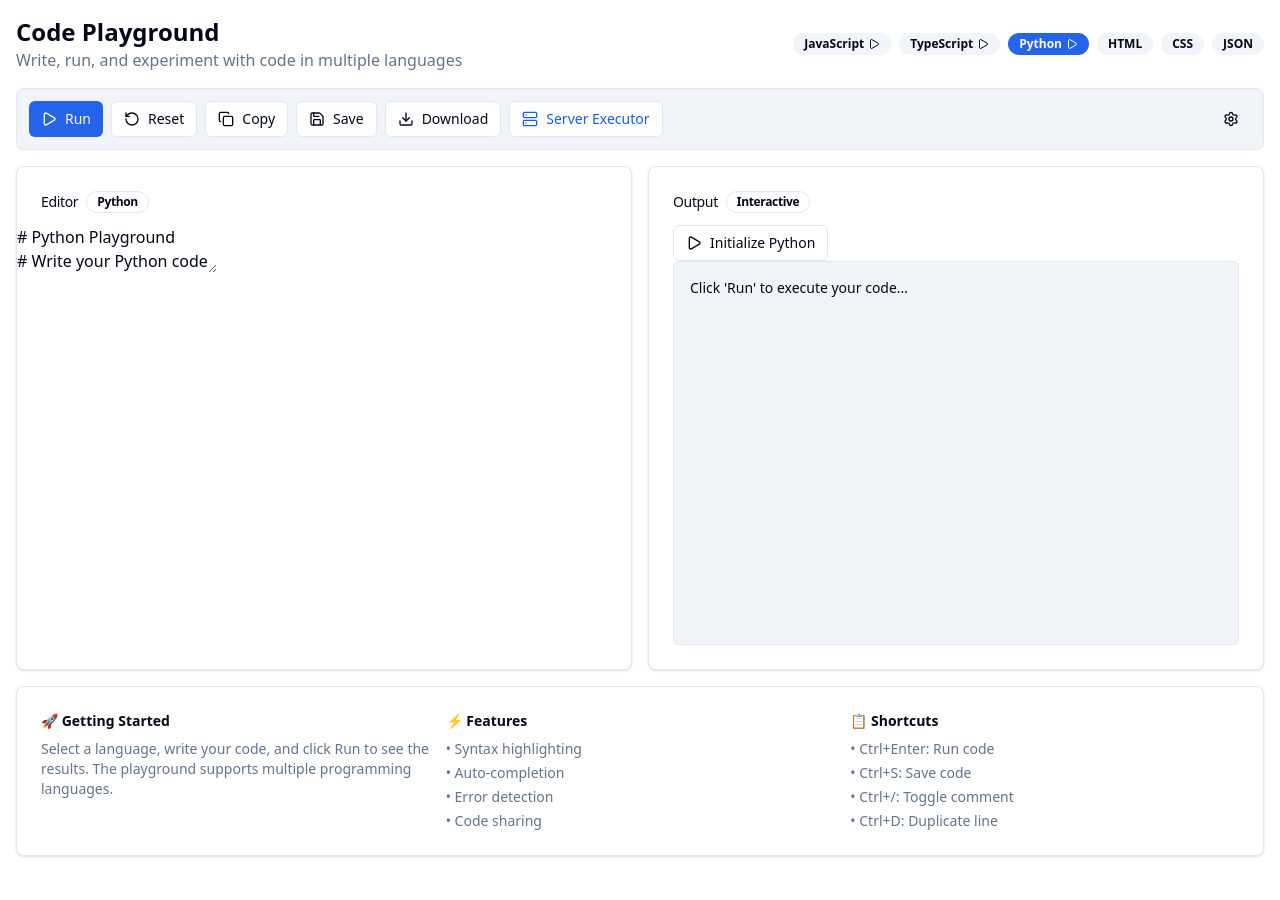
Test: CodePlayground › displays appropriate message for Python execution
The image size is (1280, 900).
Replace the text in the text box with test id "monaco-editor" with "print(\"Hello Python\")". click: (117, 249)
box: x1=17 y1=225 x2=217 y2=273
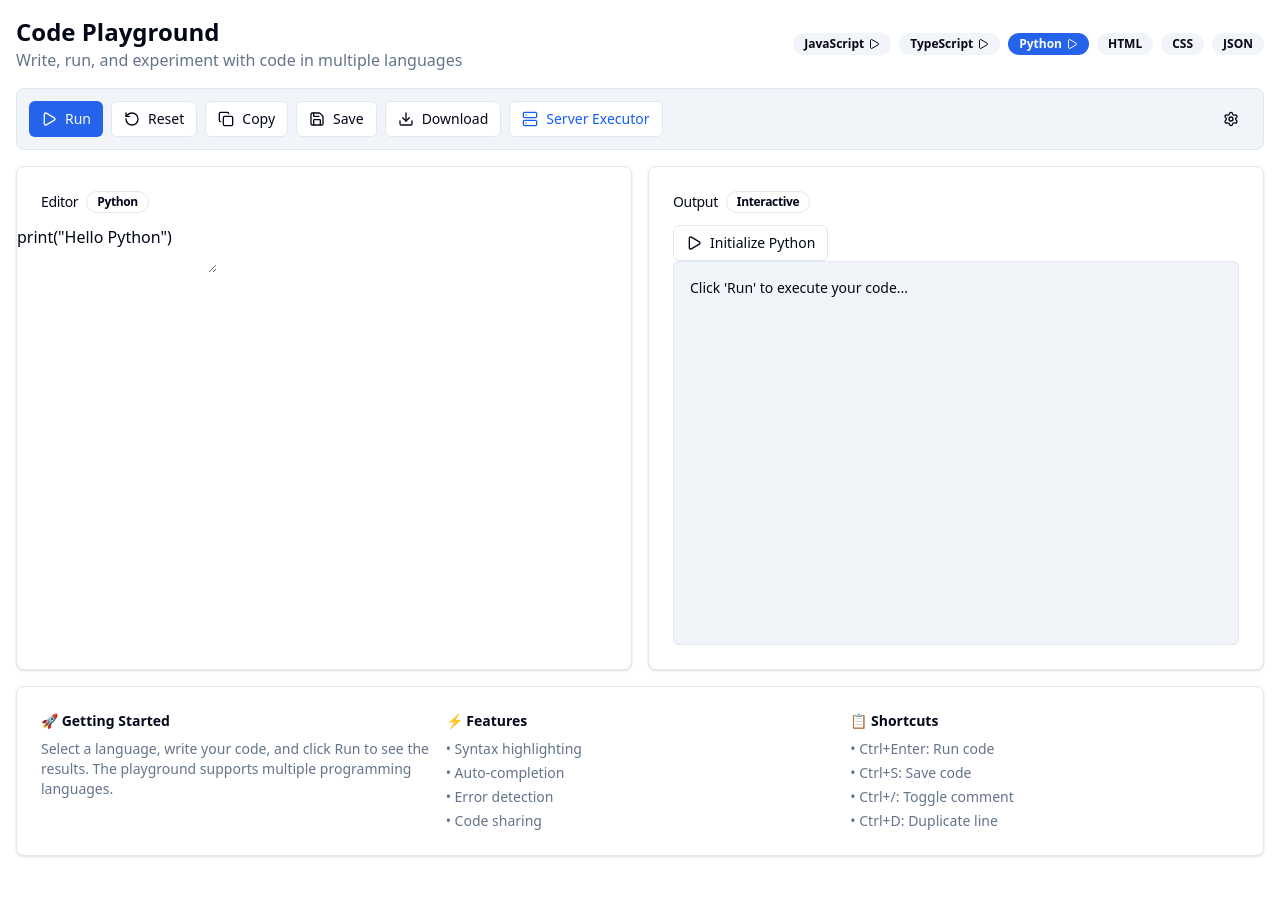
Click the button "Run". click: click(66, 119)
box: x1=29 y1=101 x2=103 y2=137
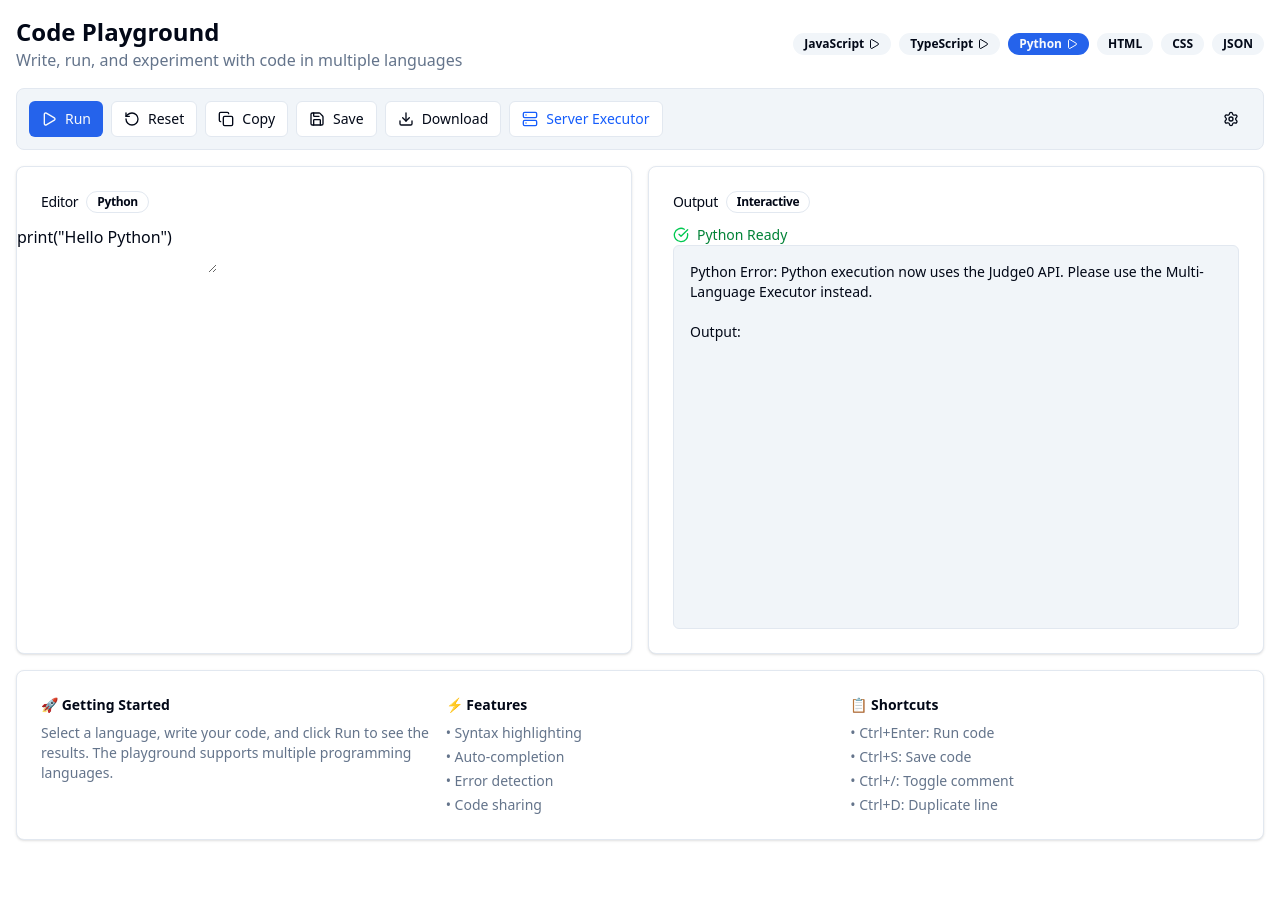
Now the text "Python execution now uses the Judge0 API" is shown, box x1=690 y1=262 x2=1204 y2=341
